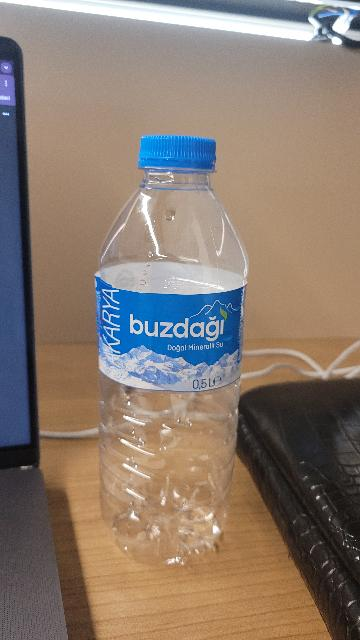Plastik: (88, 131, 252, 575)
